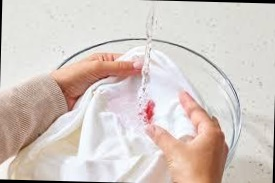blood: (138, 100, 156, 122)
